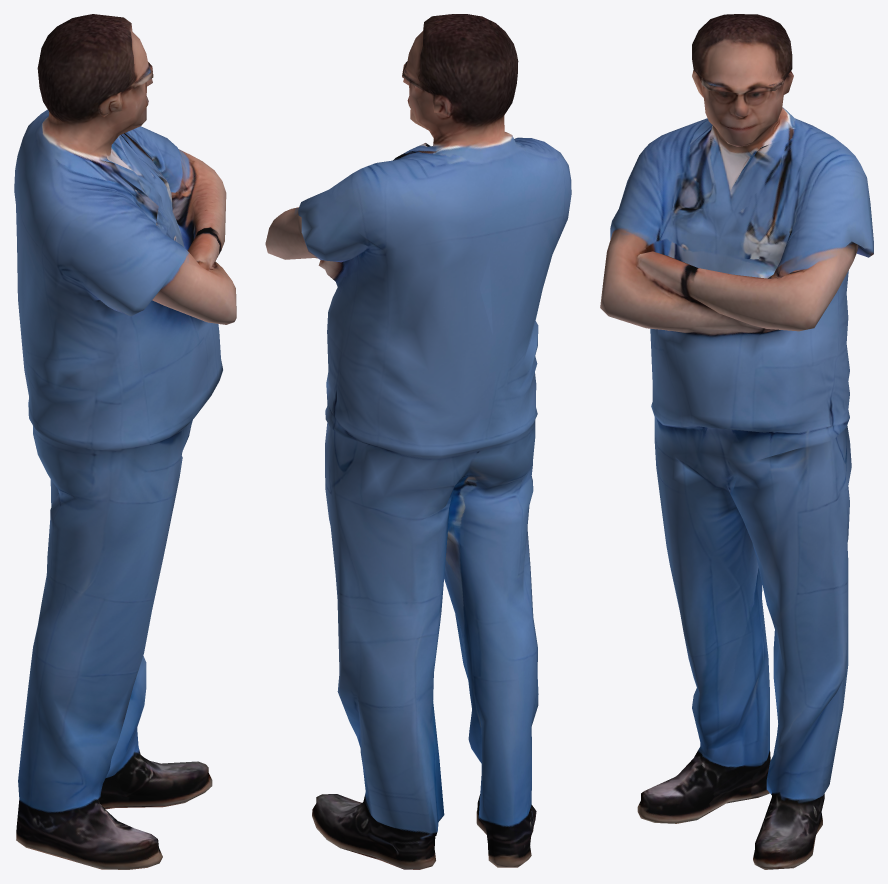
Rendered from human.fbx.
3 views of the same model, side by side, from view 1: azimuth 30°, elevation 25°; view 2: azimuth 150°, elevation 25°; view 3: azimuth 270°, elevation 25° (orthographic). The views are drawn at different scales.
Parts seen in each view (by area): view 1: tripo_node_aa1f3c97; view 2: tripo_node_aa1f3c97; view 3: tripo_node_aa1f3c97.
Boxes of the visible parts, box(x1,y1,x2,y2) form: tripo_node_aa1f3c97: box(14, 14, 236, 869); tripo_node_aa1f3c97: box(265, 14, 571, 869); tripo_node_aa1f3c97: box(600, 14, 873, 869).
Bounding box in the file's own units: 28.87 × 94.83 × 29.42.
1 material, 1 textured.
